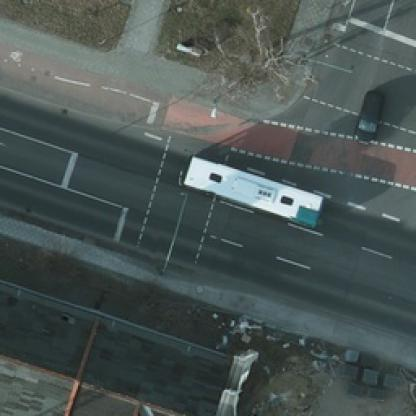car: (351, 88, 380, 143)
